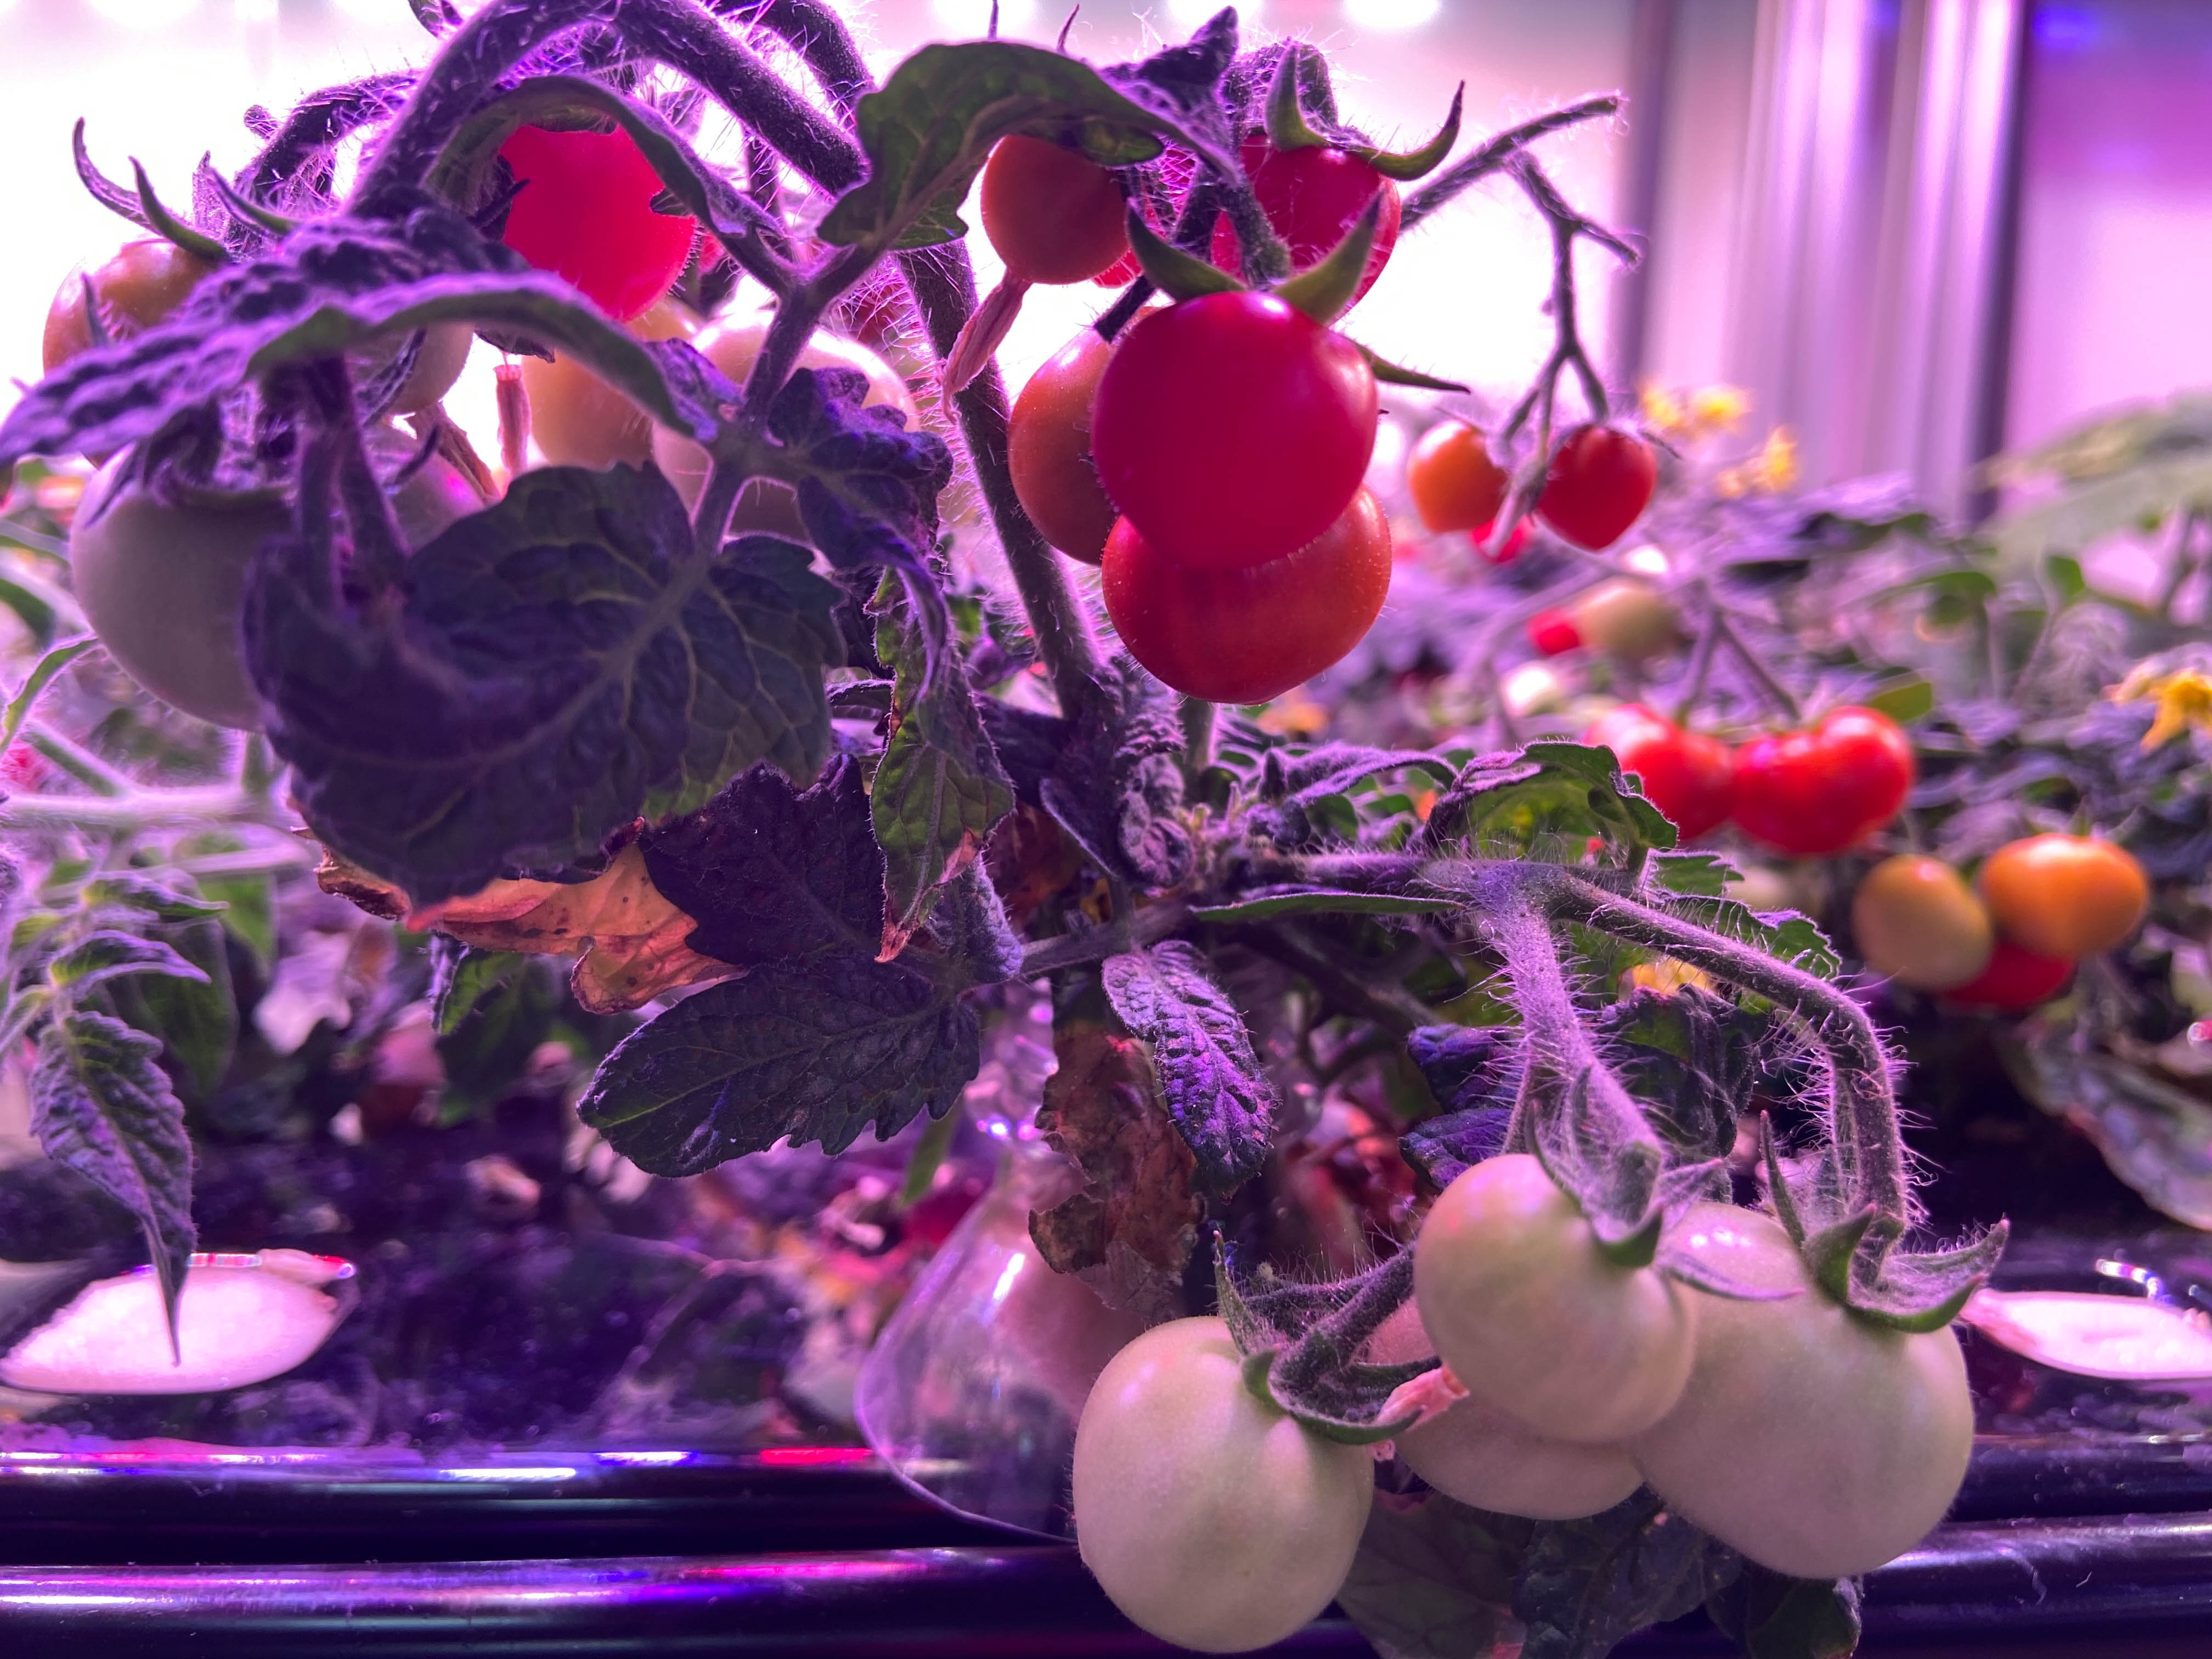green: (1634, 1201, 1979, 1586), (1062, 1309, 1378, 1652), (1409, 1147, 1700, 1443), (66, 450, 345, 732), (1392, 1368, 1655, 1521), (315, 403, 505, 558), (336, 291, 482, 429), (1580, 570, 1691, 683)
red: (1096, 284, 1379, 575), (657, 301, 949, 579), (415, 84, 695, 322), (1096, 490, 1397, 704), (1160, 82, 1402, 317), (37, 213, 261, 415), (500, 272, 698, 481), (1001, 315, 1169, 563), (1709, 699, 1912, 856), (975, 112, 1143, 286), (1980, 828, 2149, 967), (1587, 702, 1743, 845), (1848, 850, 1996, 997), (1524, 423, 1658, 552), (1404, 401, 1510, 525), (1972, 931, 2069, 1009), (1467, 488, 1540, 577), (1519, 598, 1595, 667)
